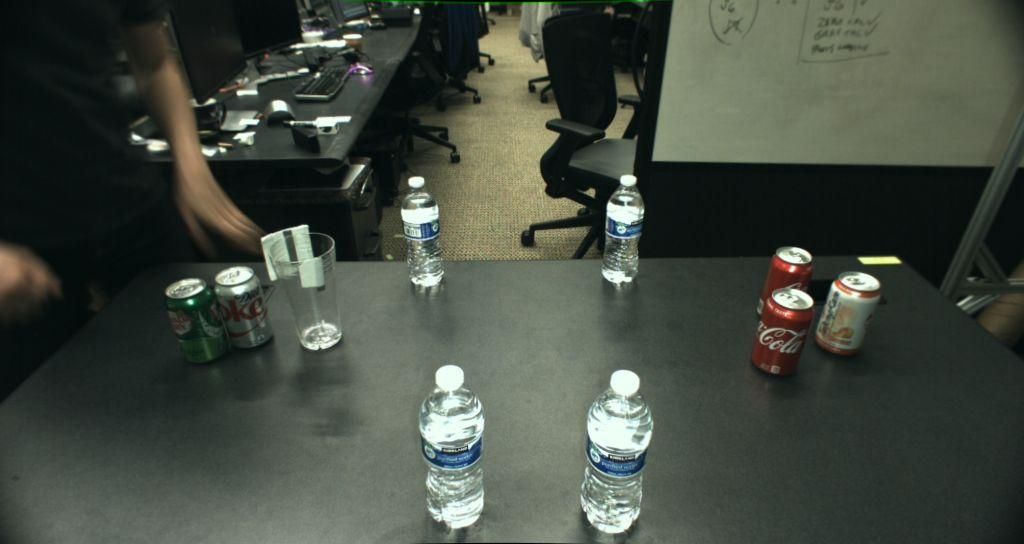can_coke: (750, 288, 815, 378)
can_diet_coke: (214, 266, 275, 349)
can_ginger_ale: (165, 277, 231, 363)
can_talking_rain_peach_nectarine: (816, 270, 882, 356)
water_bottle: (581, 369, 654, 534), (419, 364, 484, 528), (601, 174, 644, 283), (401, 176, 443, 286)
